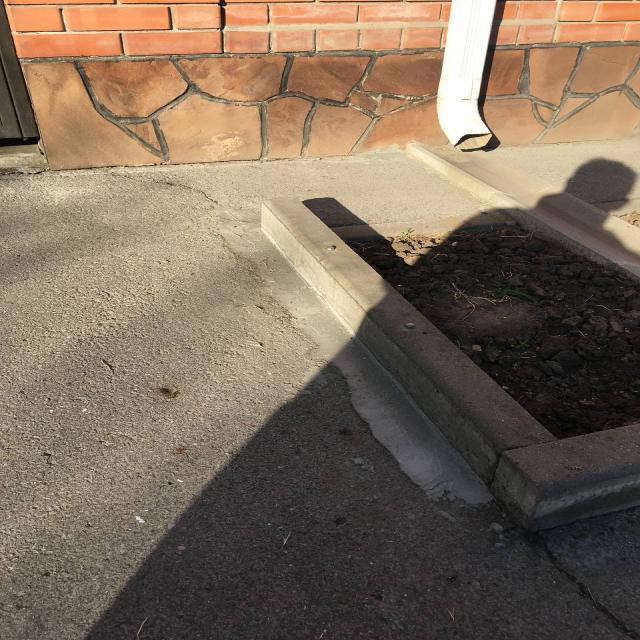bump: (352, 284, 528, 476), (465, 380, 640, 548), (251, 189, 389, 332)
